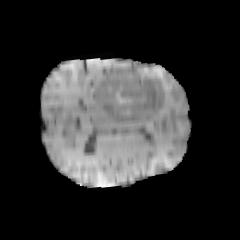glioma: (92, 66, 166, 123)
